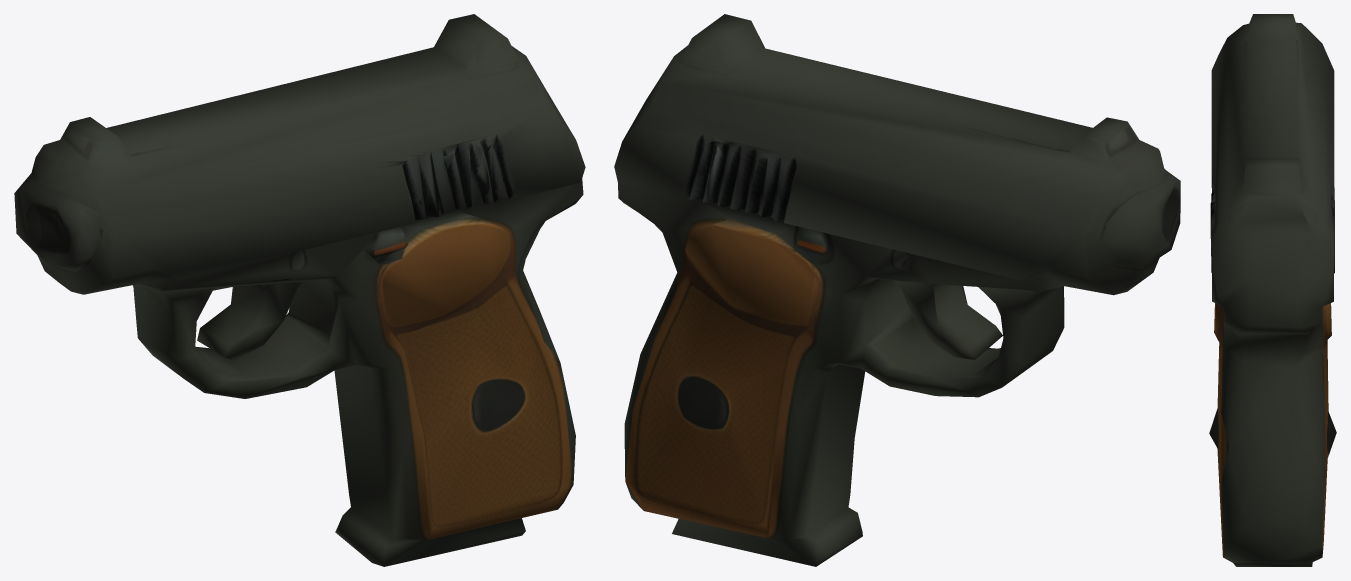
The model's file is makarov.fbx.
The picture shows the model from 3 angles, left to right: view 1: azimuth 30°, elevation 25°; view 2: azimuth 150°, elevation 25°; view 3: azimuth 270°, elevation 25°; orthographic projection. The views are drawn at different scales.
Visible parts, largest first — view 1: tmp1d0kr63j.ply; view 2: tmp1d0kr63j.ply; view 3: tmp1d0kr63j.ply.
Part boxes in pixels (x1,y1,x2,y2): tmp1d0kr63j.ply: (14,14,585,566); tmp1d0kr63j.ply: (614,14,1180,566); tmp1d0kr63j.ply: (1209,14,1336,566).
Size of the model in its own units: 199 by 177 by 51.69.
1 material, 1 textured.
